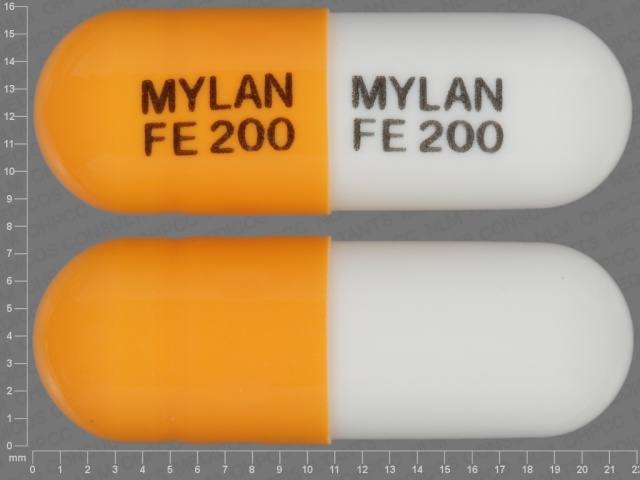capsule: (32, 5, 637, 219), (29, 233, 635, 441)
